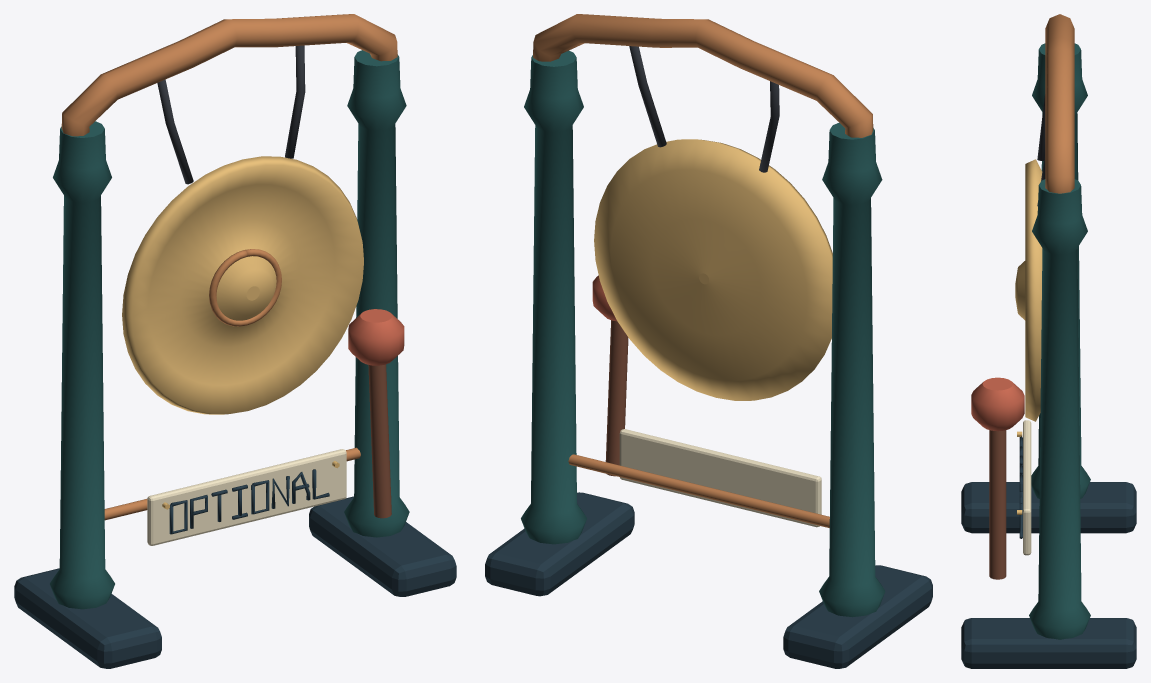
The picture shows the model from 3 angles, left to right: view 1: azimuth 30°, elevation 25°; view 2: azimuth 150°, elevation 25°; view 3: azimuth 270°, elevation 25°; orthographic projection. The views are drawn at different scales.
Parts seen in each view (by area): view 1: PR035 workshop surfaces; view 2: PR035 workshop surfaces; view 3: PR035 workshop surfaces.
Part boxes in pixels (<box>): PR035 workshop surfaces: <box>14,14,456,668</box>; PR035 workshop surfaces: <box>485,14,932,668</box>; PR035 workshop surfaces: <box>961,14,1136,668</box>.
Size of the model in its own units: 1.1 by 1.69 by 0.4935.
